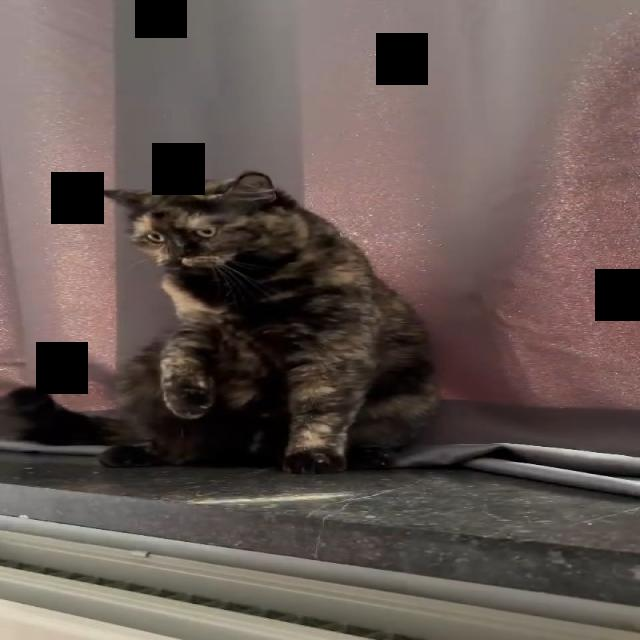authorized: (92, 170, 441, 475)
